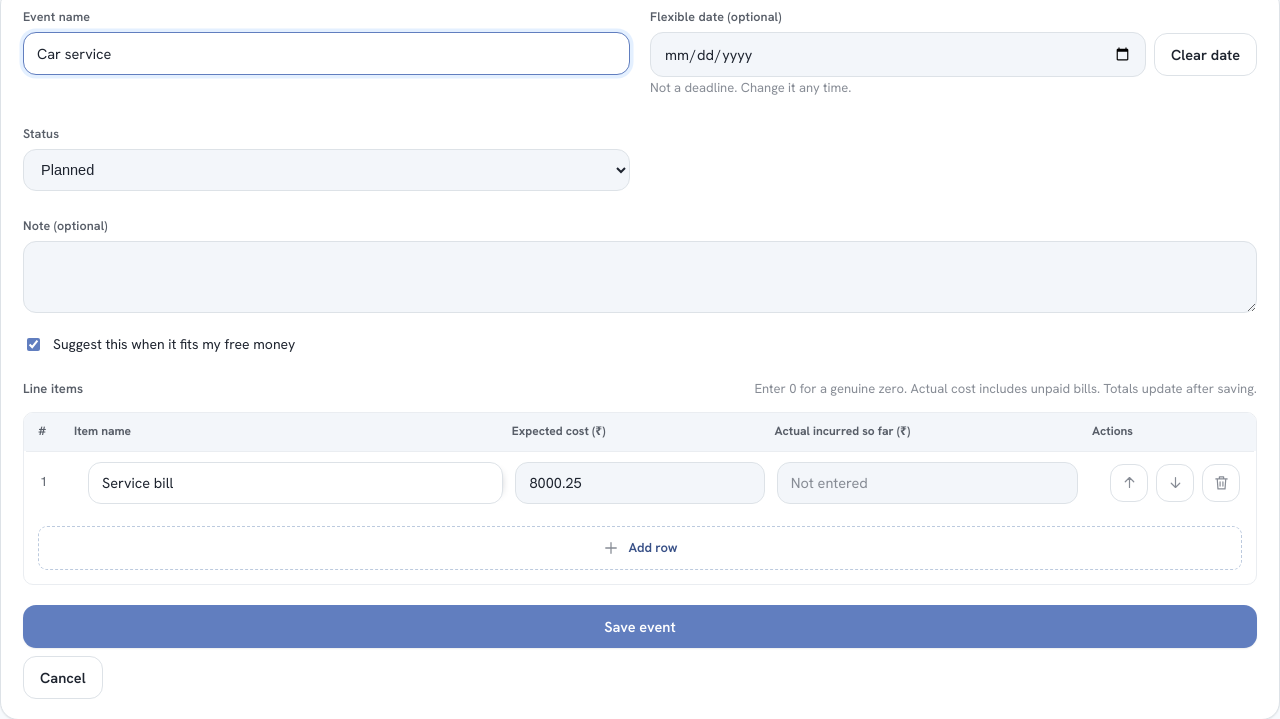
Test case: EventForm › uses compact table headers and adds editable rows inline
The image size is (1280, 719).
(page scrolled)
Expected: the text "Expected cost (₹)" is shown, [512,423,606,439]
Expected: the text "Actual incurred so far (₹)" is shown, [774,423,910,439]
Step 1. Click the button "Add row" → (640, 548), box [38,526,1242,570]
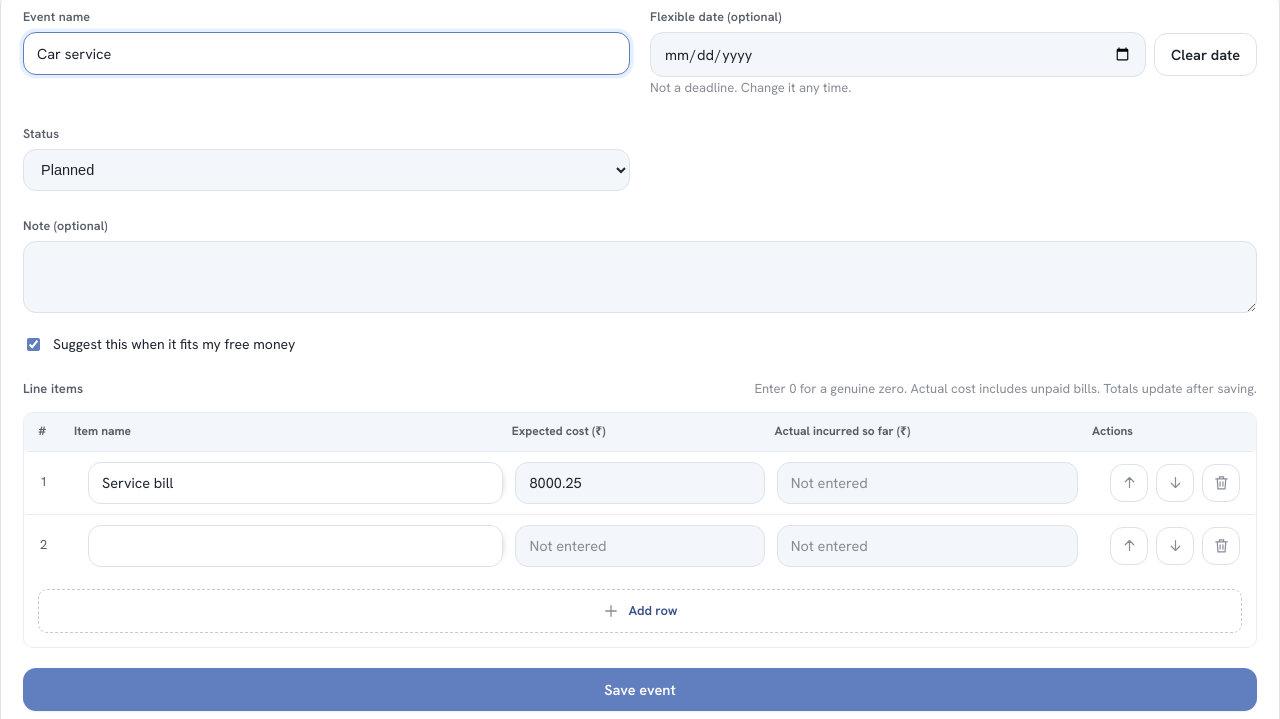
Expected: the field named "Item 1 name" holds "Service bill", [88,462,504,504]
Expected: the field named "Item 2 name" is shown, [88,525,504,567]
